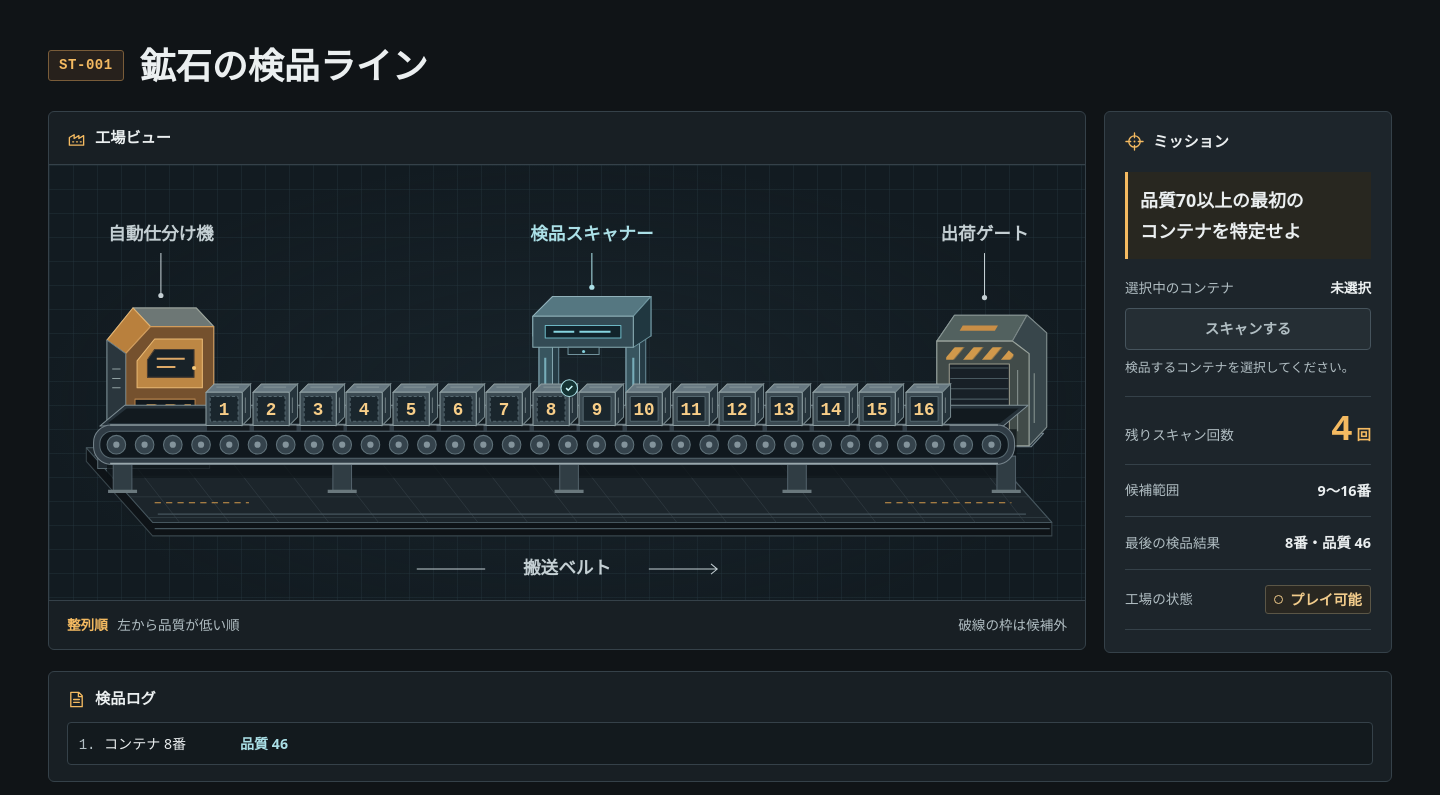
Test: terminal results › uses the server’s clear result to open the gate, display scans used, and start a fresh challenge
The width and height of the screenshot is (1440, 795).
Step 1. Click the radio button labelled "9" → (602, 404), box [579,384,624,425]
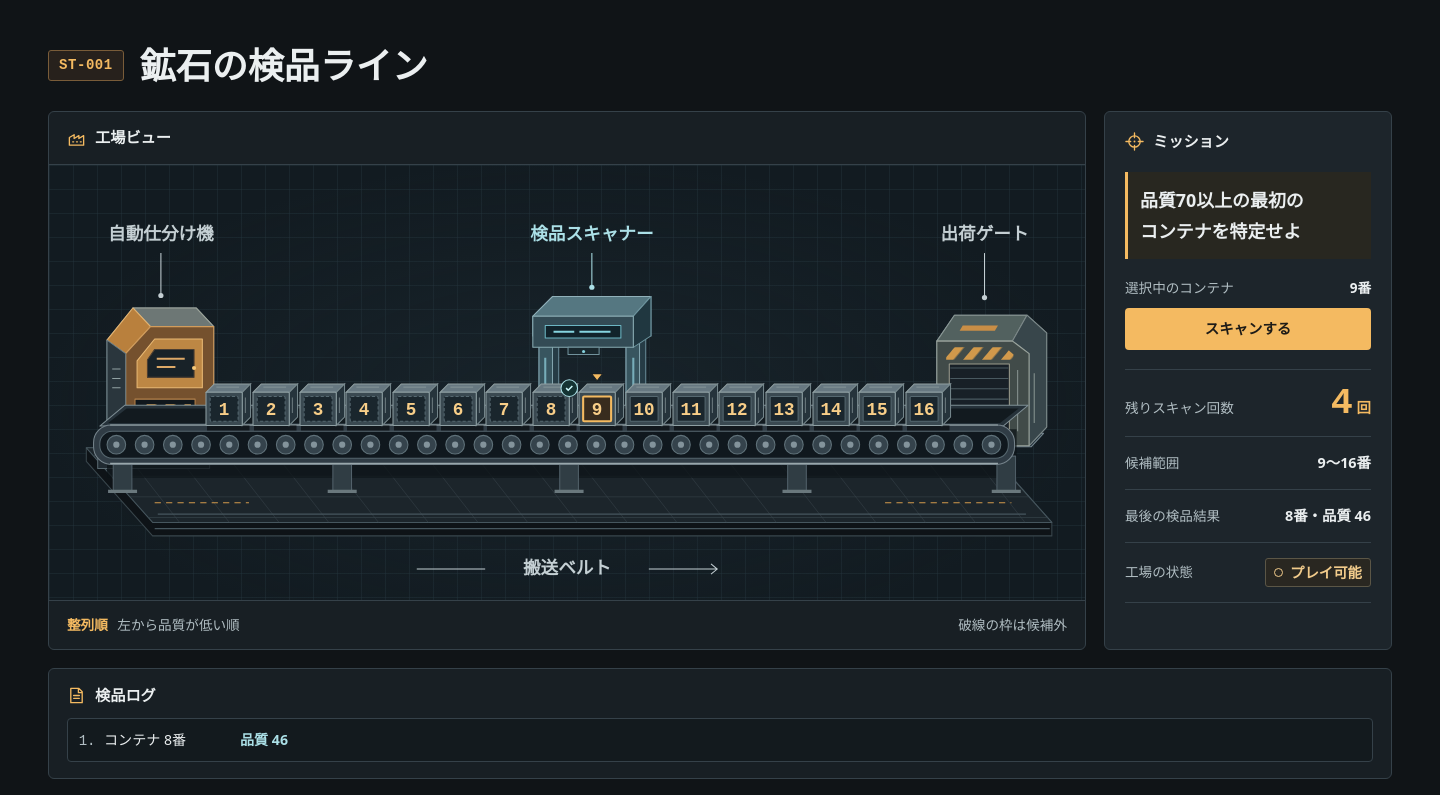
Step 2. Click the button "スキャンする" → (1248, 329), box [1125,308,1371,350]
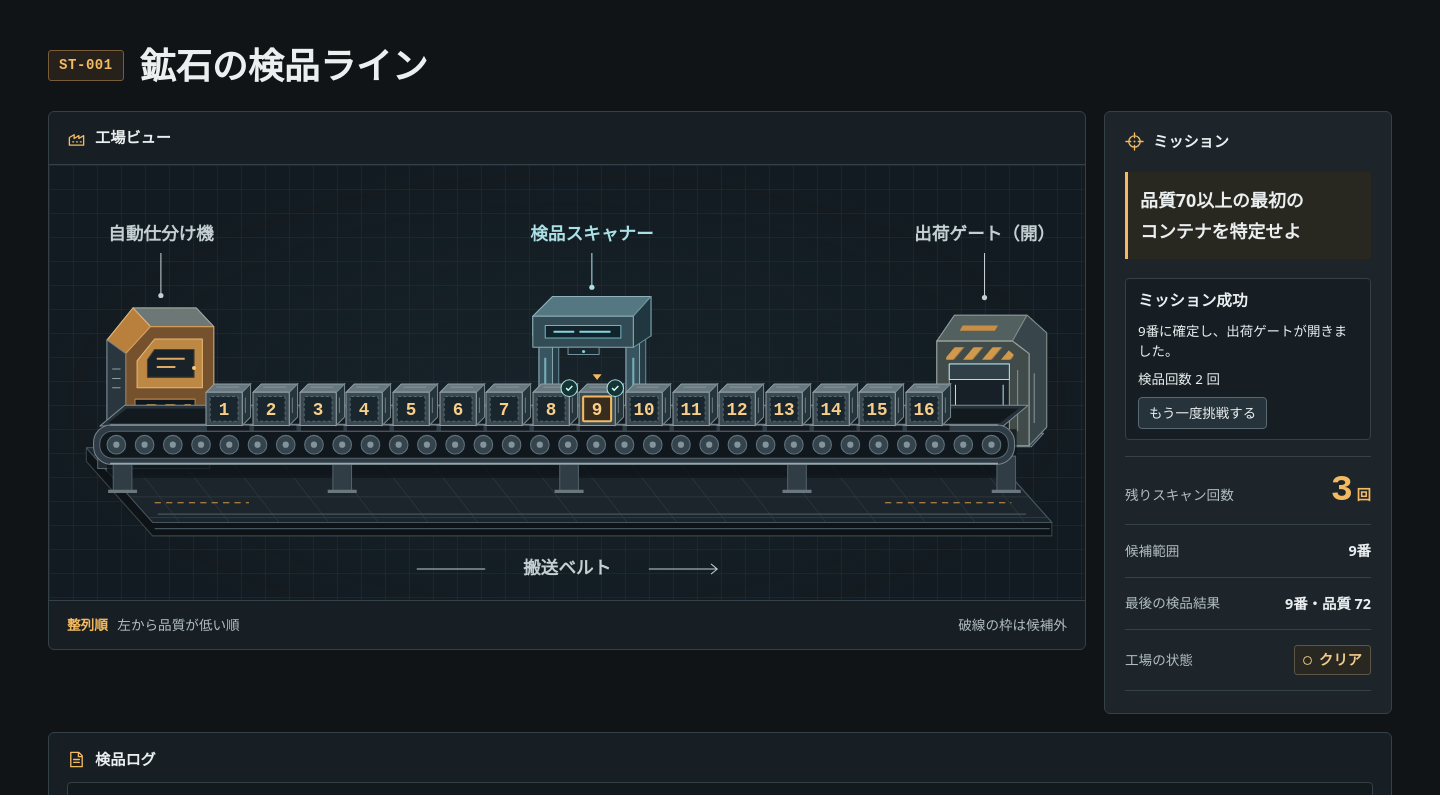
Now the heading with id "result-title" reads "ミッション成功", box [1138,289,1248,311]
Now the element with class "game-result" shows "検品回数 2 回", box [1125,278,1371,440]
Now the picture with class "factory-scene" shows "出荷ゲート（開）", box [914,221,1055,245]
Step 3. Click the button "もう一度挑戦する" → (1203, 413), box [1138,397,1267,429]
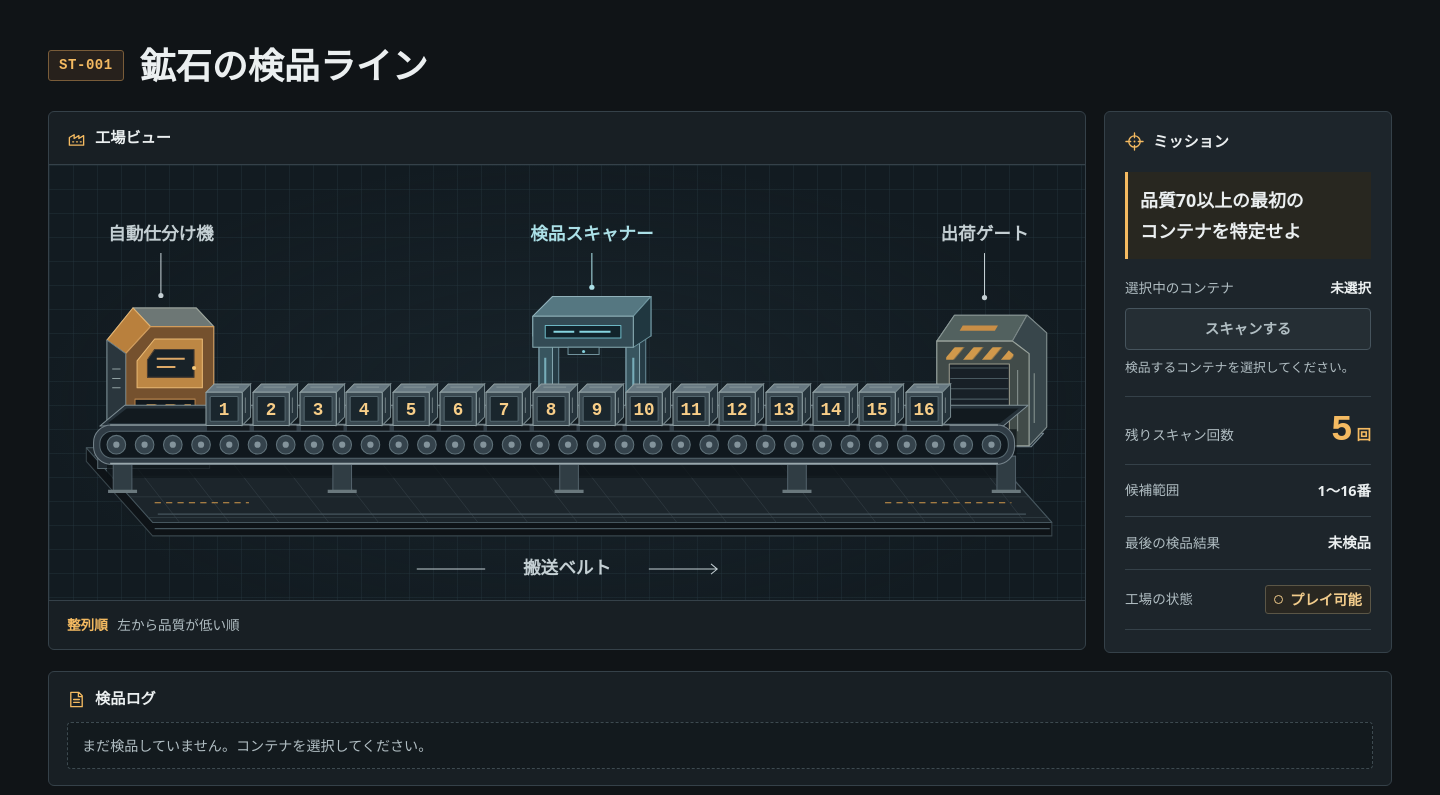
Now the picture with class "factory-scene" no longer shows "出荷ゲート（開）"
